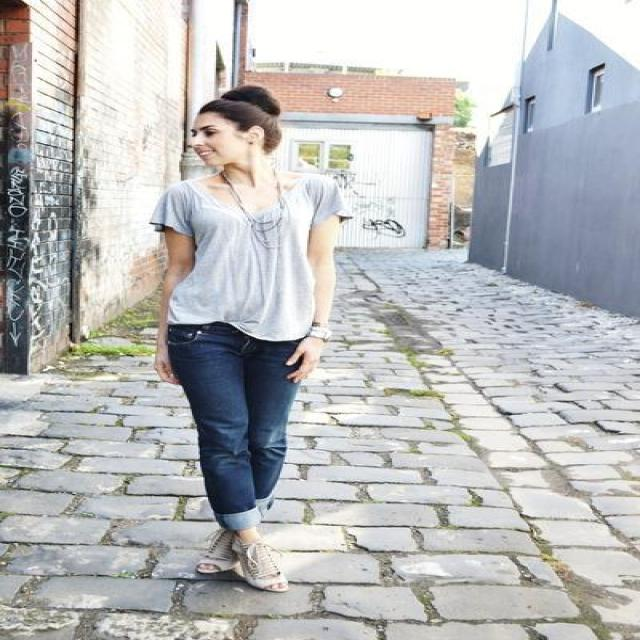pants: (165, 321, 322, 533)
shirt: (150, 185, 352, 339)
shoe: (154, 525, 300, 590)
